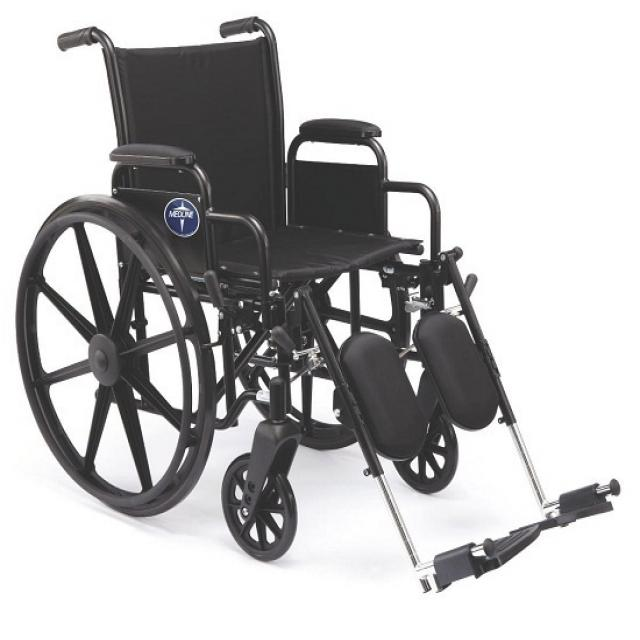wheelchair: (10, 5, 640, 616)
